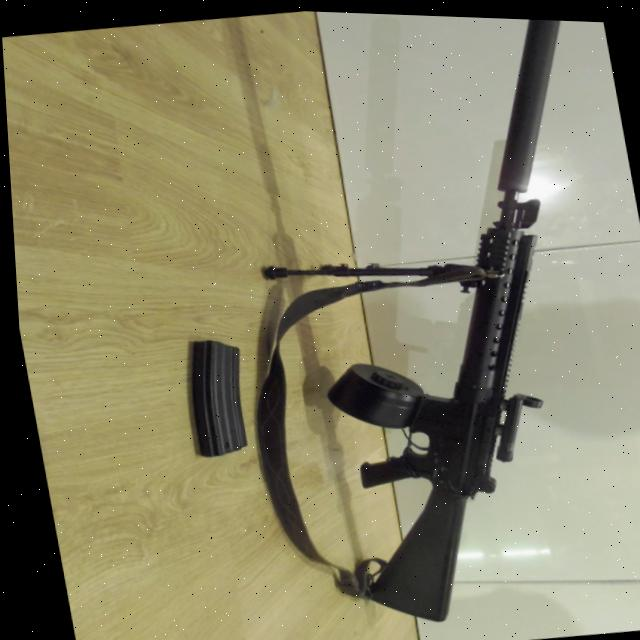firearm: (256, 7, 640, 632)
